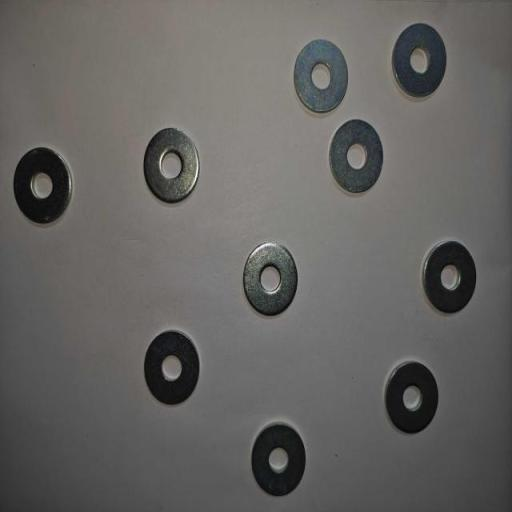washer: (14, 147, 74, 226), (143, 128, 200, 205), (391, 22, 447, 100), (143, 330, 200, 406), (293, 38, 348, 116), (329, 118, 384, 196), (242, 241, 298, 316), (250, 422, 306, 497), (384, 361, 439, 435), (422, 240, 476, 315)
